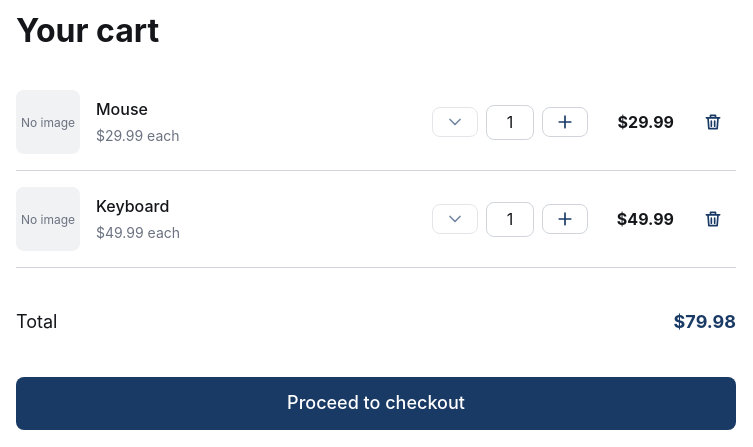
it: CartPage › removing an item updates the list AND the total, without a full refetch (Strategy 3 in action)
Expected: the link "Mouse" is shown, [96,99,148,119]
Expected: the text "$79.98" is shown, [674,308,736,337]
Click the button named "Remove Mouse from cart" at x=713, y=122, box [690,107,736,137]
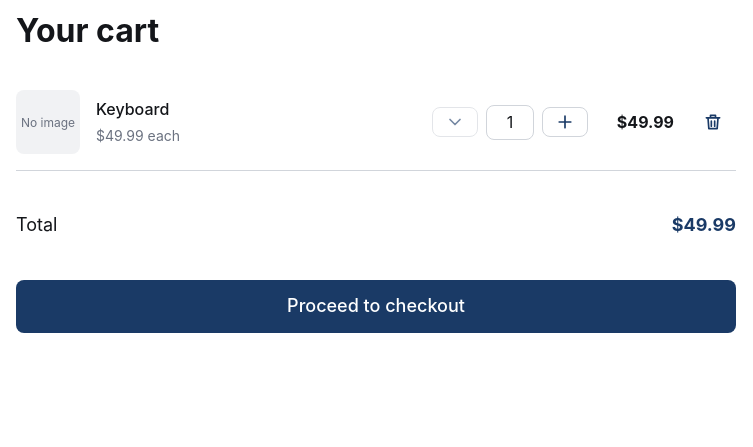
Expected: the link "Keyboard" is shown, [96,99,169,119]
Now the link "Mouse" is gone
